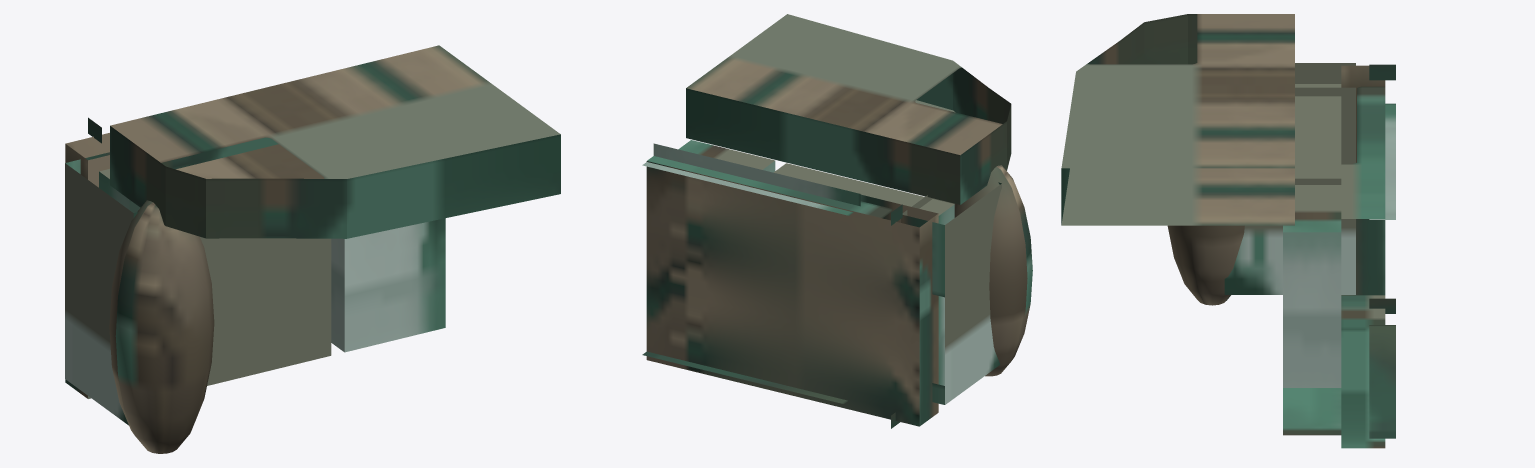
The model's file is section-4.obj.
The picture shows the model from 3 angles, left to right: view 1: azimuth 30°, elevation 25°; view 2: azimuth 150°, elevation 25°; view 3: azimuth 270°, elevation 25°; orthographic projection. The views are drawn at different scales.
Bounding box in the file's own units: 0.9018 × 0.702 × 1.02.
